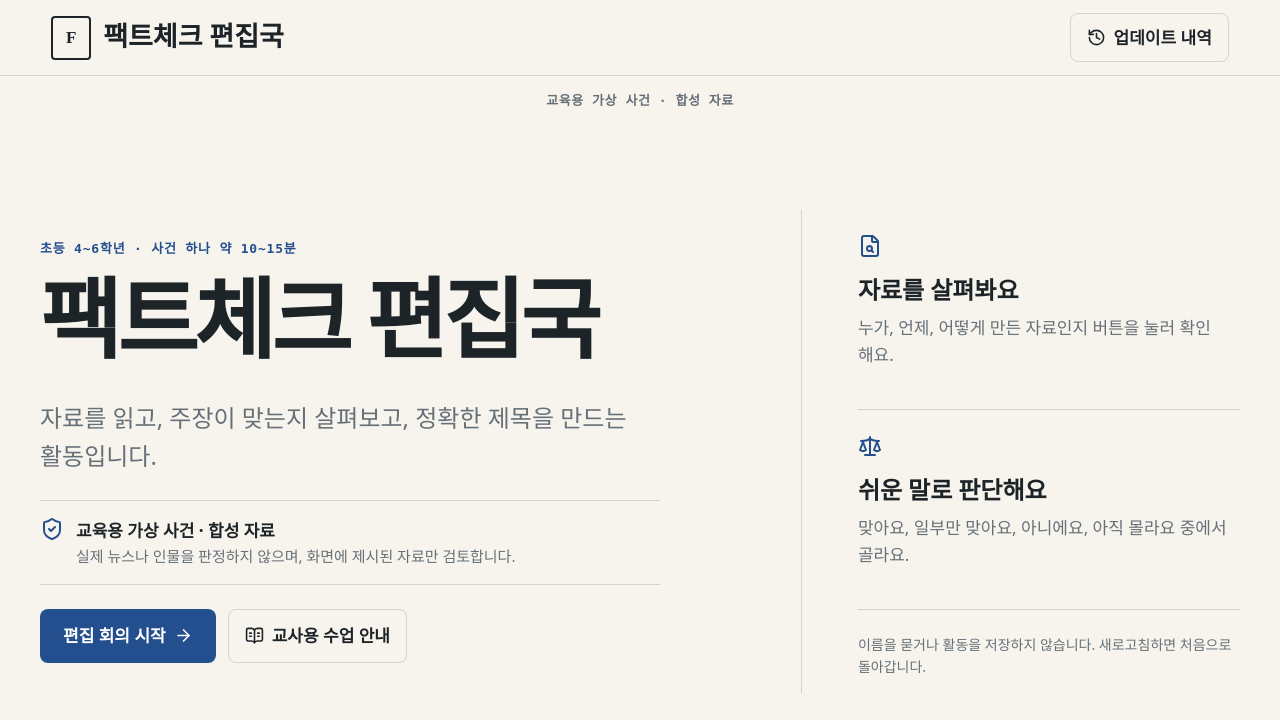
Test: App shell and intake › opens a printable teacher guide from the start screen
The width and height of the screenshot is (1280, 720).
What coordinates should you click on to do the following:
click the button "교사용 수업 안내"
I would click on:
 (317, 636)
Its box is x1=228 y1=609 x2=407 y2=663.
(page scrolled)
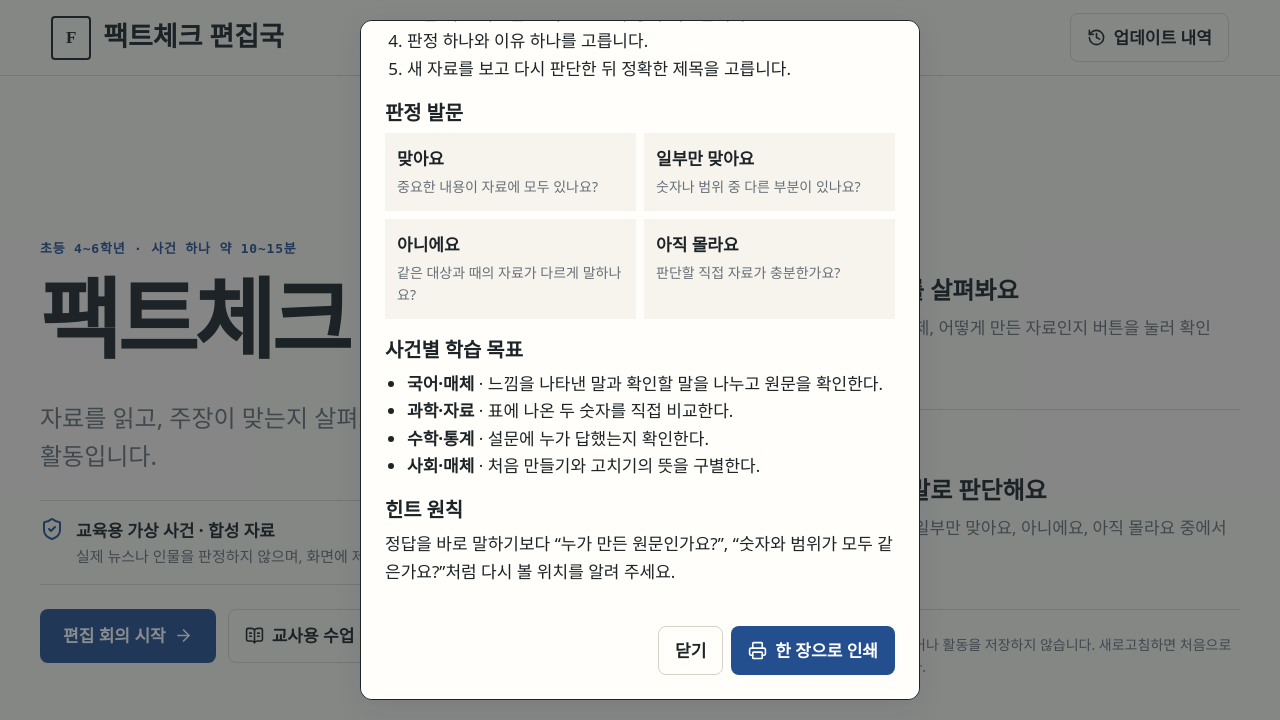
Check: the dialog "교사용 수업 안내" is shown, box x1=360 y1=20 x2=920 y2=700
Check: the heading "판정 발문" is shown, box x1=385 y1=102 x2=463 y2=124
Check: the button "한 장으로 인쇄" is enabled, box x1=731 y1=626 x2=895 y2=675
